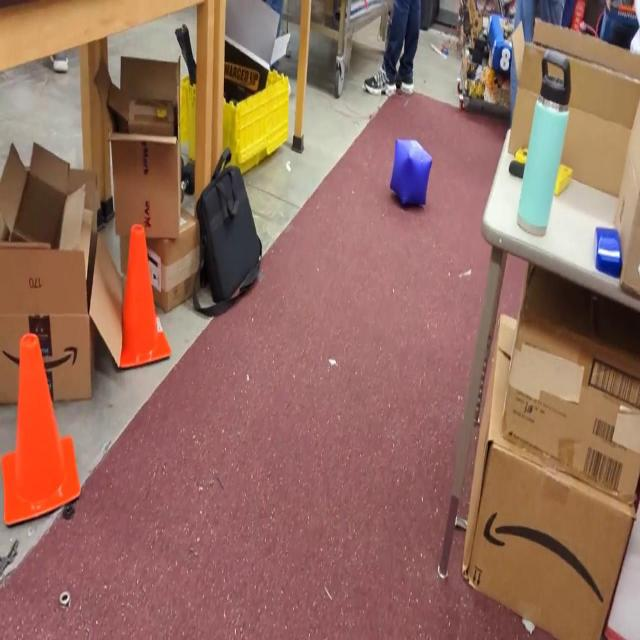frc_cube: (390, 137, 432, 209)
